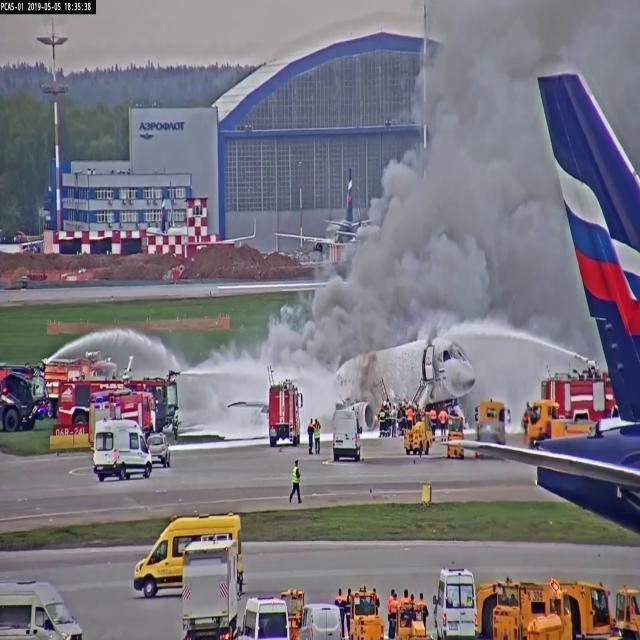Smoke: (453, 30, 526, 277)
